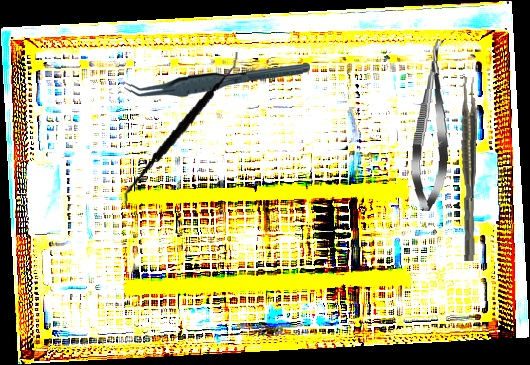Micro Scissor: (408, 37, 456, 213)
Spatula Surgical: (122, 40, 242, 221)
Tissue Forceps: (123, 61, 311, 99), (458, 76, 478, 262)
